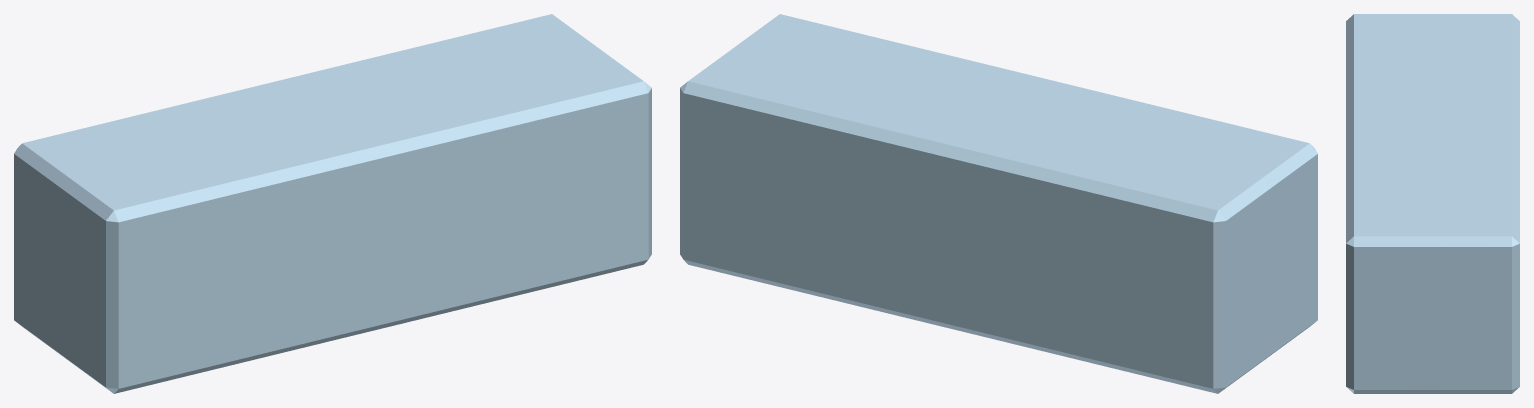
The model's file is R4B_Beam3_LOD1.fbx.
3 renders of one model, left to right at view 1: azimuth 30°, elevation 25°; view 2: azimuth 150°, elevation 25°; view 3: azimuth 270°, elevation 25°, orthographic. The views are drawn at different scales.
Parts seen in each view (by area): view 1: R4B_Beam3_LOD1; view 2: R4B_Beam3_LOD1; view 3: R4B_Beam3_LOD1.
Boxes of the visible parts, <box> form: R4B_Beam3_LOD1: <box>14,14,651,393</box>; R4B_Beam3_LOD1: <box>680,14,1317,393</box>; R4B_Beam3_LOD1: <box>1346,14,1519,393</box>.
Size of the model in its own units: 1.62 by 0.52 by 0.52.
